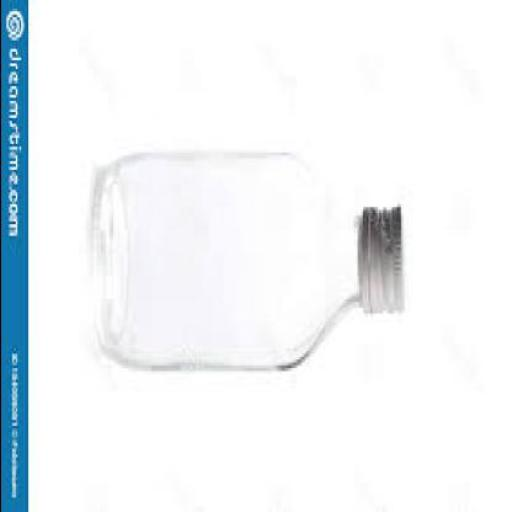glass: (90, 152, 362, 366)
metal: (361, 204, 405, 310)
